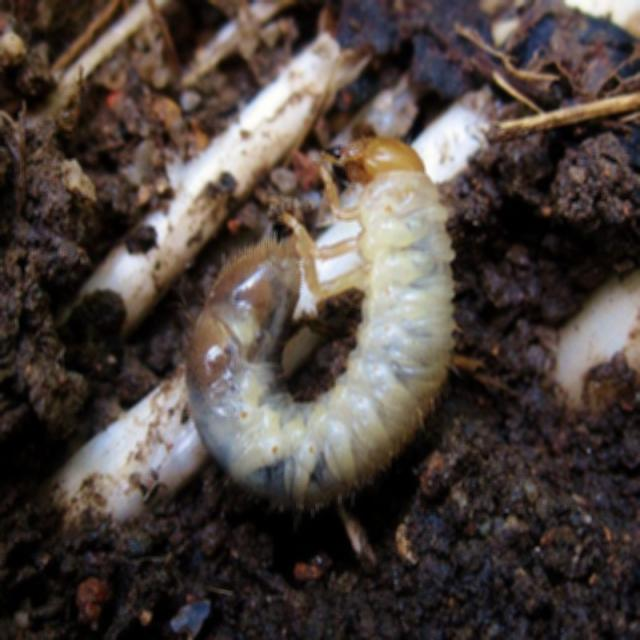grub: (193, 130, 467, 493)
